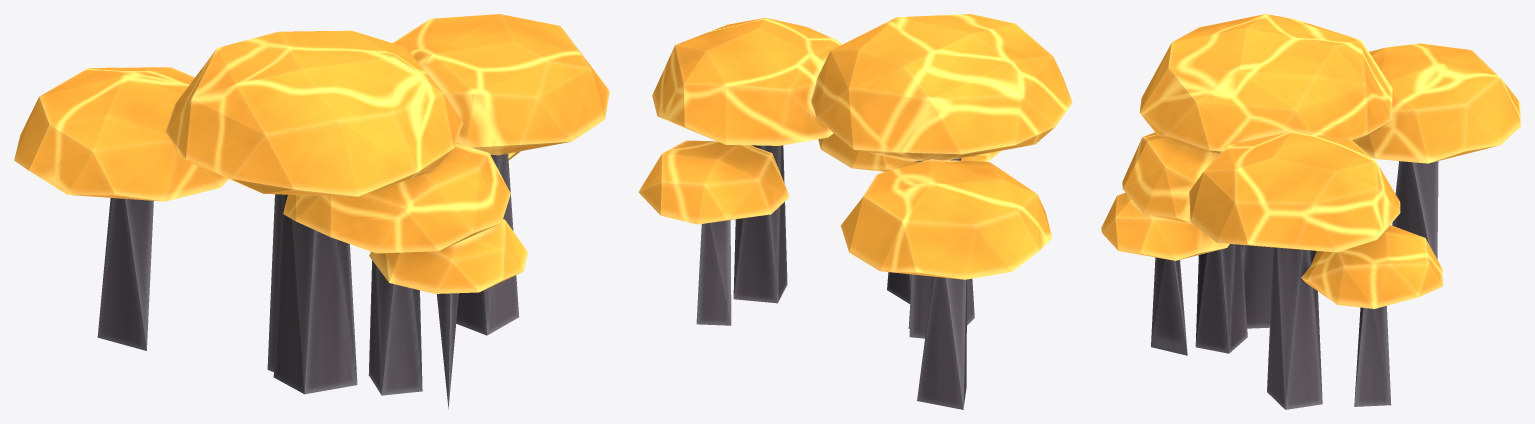
The model's file is underworld-flora-fungal-amber-bed.glb.
3 renders of one model, left to right at view 1: azimuth 30°, elevation 25°; view 2: azimuth 150°, elevation 25°; view 3: azimuth 270°, elevation 25°, orthographic. The views are drawn at different scales.
Visible parts, largest first — view 1: caps, stalks; view 2: caps, stalks; view 3: caps, stalks.
Part boxes in pixels (bbox=[...]): caps: bbox=[14, 14, 609, 293]; stalks: bbox=[97, 153, 519, 408]; caps: bbox=[638, 14, 1072, 279]; stalks: bbox=[696, 145, 974, 409]; caps: bbox=[1101, 14, 1520, 308]; stalks: bbox=[1151, 161, 1438, 409].
Size of the model in its own units: 0.5575 by 0.3484 by 0.4728.
Materials: 2 (2 with a texture image).
